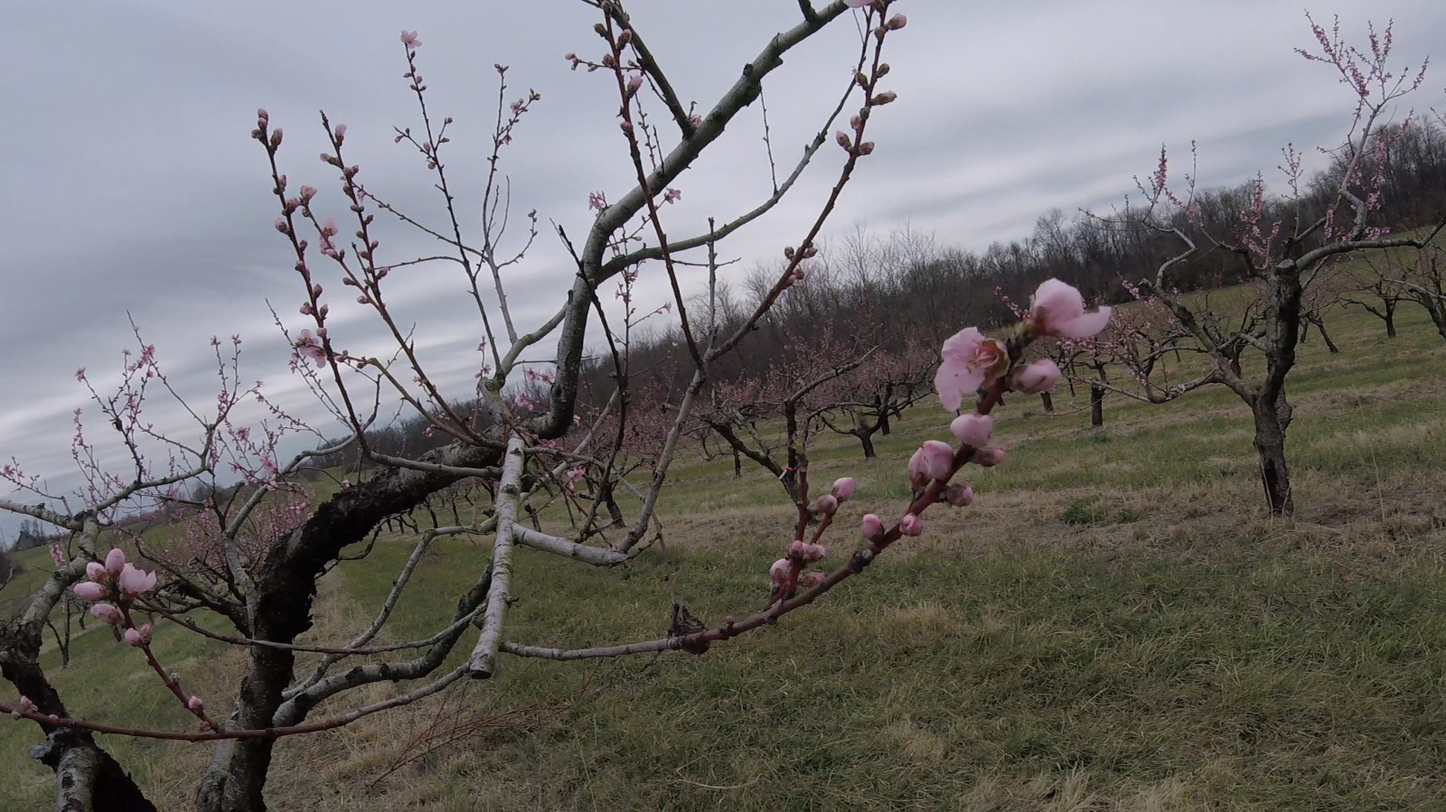flower: (934, 327, 1004, 452), (1032, 278, 1113, 341), (67, 548, 157, 597), (909, 441, 954, 481), (292, 326, 329, 369), (1020, 359, 1064, 383), (320, 219, 340, 258), (789, 540, 827, 560), (124, 623, 153, 645), (259, 454, 278, 483), (864, 515, 883, 542), (658, 188, 681, 210), (621, 70, 645, 91), (137, 341, 155, 368), (236, 427, 251, 459), (897, 513, 923, 531), (90, 603, 116, 621), (400, 31, 422, 50), (509, 98, 530, 117), (264, 215, 287, 232), (188, 696, 212, 712), (568, 466, 592, 481), (844, 0, 876, 11), (835, 478, 854, 496), (589, 192, 605, 211), (771, 559, 791, 574), (75, 368, 89, 387), (300, 186, 317, 198), (335, 125, 347, 140), (1111, 317, 1122, 327)
